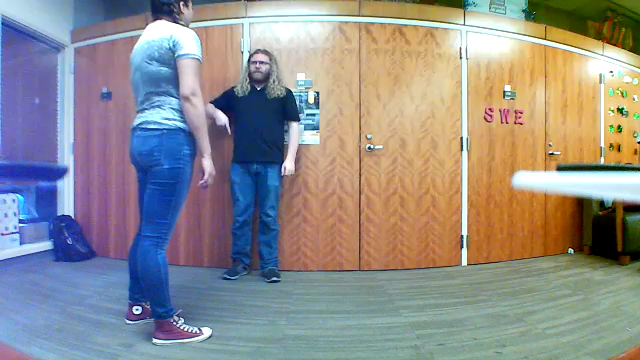down: (209, 106, 232, 137)
